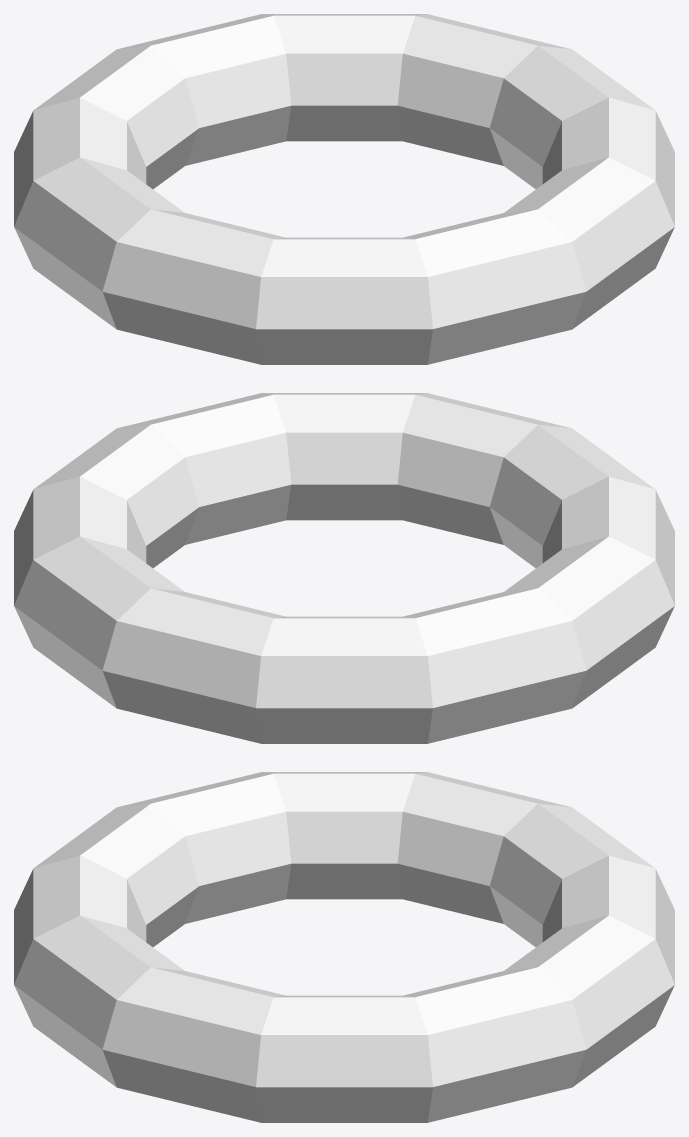
File: Ring.fbx
3 renders of one model, top to bottom at view 1: azimuth 30°, elevation 25°; view 2: azimuth 150°, elevation 25°; view 3: azimuth 270°, elevation 25°, orthographic.
Parts seen in each view (by area): view 1: torus; view 2: torus; view 3: torus.
Part boxes in pixels (<box>): torus: <box>14,14,674,364</box>; torus: <box>14,393,674,743</box>; torus: <box>14,772,674,1122</box>.
Bounding box in the file's own units: 125 × 25.88 × 125.
1 material, 1 textured.
